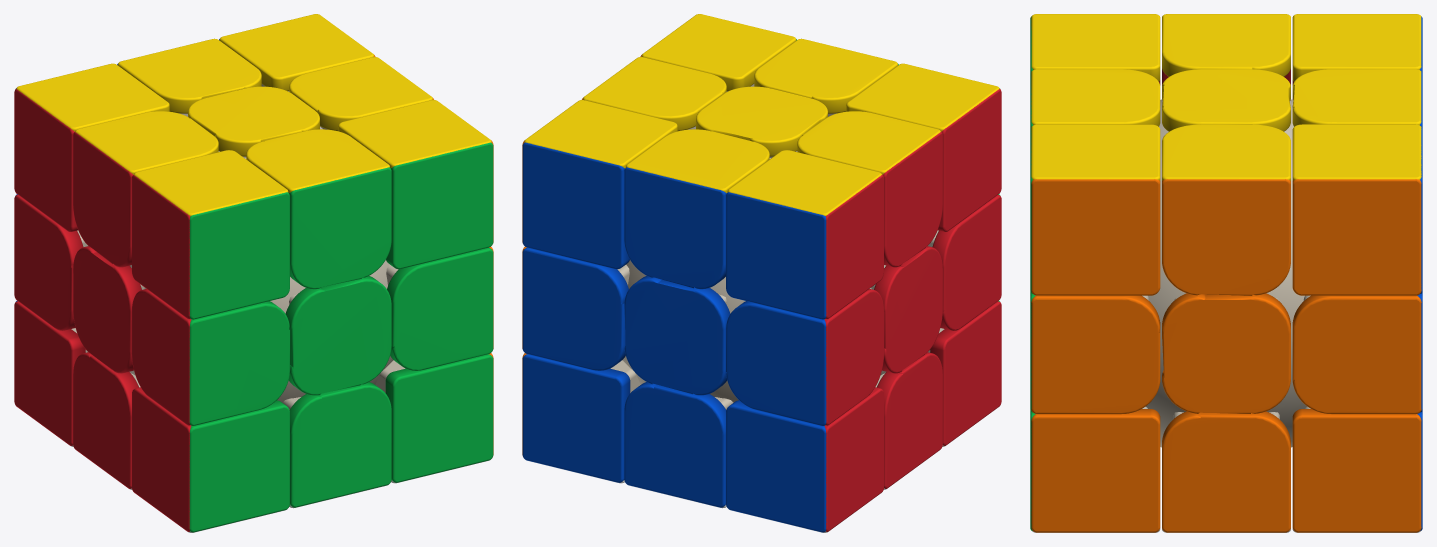
The picture shows the model from 3 angles, left to right: view 1: azimuth 30°, elevation 25°; view 2: azimuth 150°, elevation 25°; view 3: azimuth 270°, elevation 25°; orthographic projection. The views are drawn at different scales.
Parts seen in each view (by area): view 1: piece_-1,1,1, piece_-1,-1,1, piece_1,1,1, piece_-1,0,1, piece_0,1,1, piece_-1,1,-1, piece_-1,1,0, piece_1,-1,1, piece_1,0,1, piece_0,-1,1, piece_0,0,1, piece_-1,-1,-1 (+8 smaller); view 2: piece_-1,1,-1, piece_-1,-1,-1, piece_1,1,-1, piece_-1,0,-1, piece_0,1,-1, piece_-1,1,1, piece_-1,1,0, piece_1,-1,-1, piece_1,0,-1, piece_0,-1,-1, piece_0,0,-1, piece_-1,-1,1 (+8 smaller); view 3: piece_1,1,-1, piece_1,1,1, piece_1,1,0, piece_1,-1,1, piece_1,-1,-1, piece_1,0,1, piece_1,0,-1, piece_1,-1,0, piece_1,0,0, piece_-1,1,0, piece_-1,1,-1, piece_-1,1,1 (+4 smaller).
Part boxes in pixels (<box>): piece_-1,1,1: <box>132,150,289,319</box>; piece_-1,-1,1: <box>132,387,289,532</box>; piece_1,1,1: <box>338,100,493,269</box>; piece_-1,0,1: <box>131,289,289,425</box>; piece_0,1,1: <box>246,129,391,289</box>; piece_-1,1,-1: <box>14,63,169,231</box>; piece_-1,1,0: <box>73,111,218,267</box>; piece_1,-1,1: <box>375,353,493,483</box>; piece_1,0,1: <box>386,247,493,370</box>; piece_0,-1,1: <box>282,382,391,508</box>; piece_0,0,1: <box>285,276,391,395</box>; piece_-1,-1,-1: <box>14,300,87,446</box>; piece_-1,1,-1: <box>726,150,883,319</box>; piece_-1,-1,-1: <box>726,387,883,532</box>; piece_1,1,-1: <box>522,100,677,269</box>; piece_-1,0,-1: <box>726,289,884,425</box>; piece_0,1,-1: <box>624,129,769,289</box>; piece_-1,1,1: <box>846,63,1001,231</box>; piece_-1,1,0: <box>797,111,942,267</box>; piece_1,-1,-1: <box>522,353,640,483</box>; piece_1,0,-1: <box>522,247,629,370</box>; piece_0,-1,-1: <box>624,382,733,508</box>; piece_0,0,-1: <box>624,276,730,395</box>; piece_-1,-1,1: <box>928,300,1001,446</box>; piece_1,1,-1: <box>1292,124,1422,295</box>; piece_1,1,1: <box>1030,124,1160,295</box>; piece_1,1,0: <box>1162,124,1290,295</box>; piece_1,-1,1: <box>1030,406,1160,532</box>; piece_1,-1,-1: <box>1292,406,1422,532</box>; piece_1,0,1: <box>1030,292,1160,414</box>; piece_1,0,-1: <box>1292,292,1422,414</box>; piece_1,-1,0: <box>1162,411,1290,532</box>; piece_1,0,0: <box>1162,293,1290,413</box>; piece_-1,1,0: <box>1162,14,1290,85</box>; piece_-1,1,-1: <box>1292,14,1422,99</box>; piece_-1,1,1: <box>1030,14,1160,84</box>.
Bounding box in the file's own units: 2 × 2 × 2.
